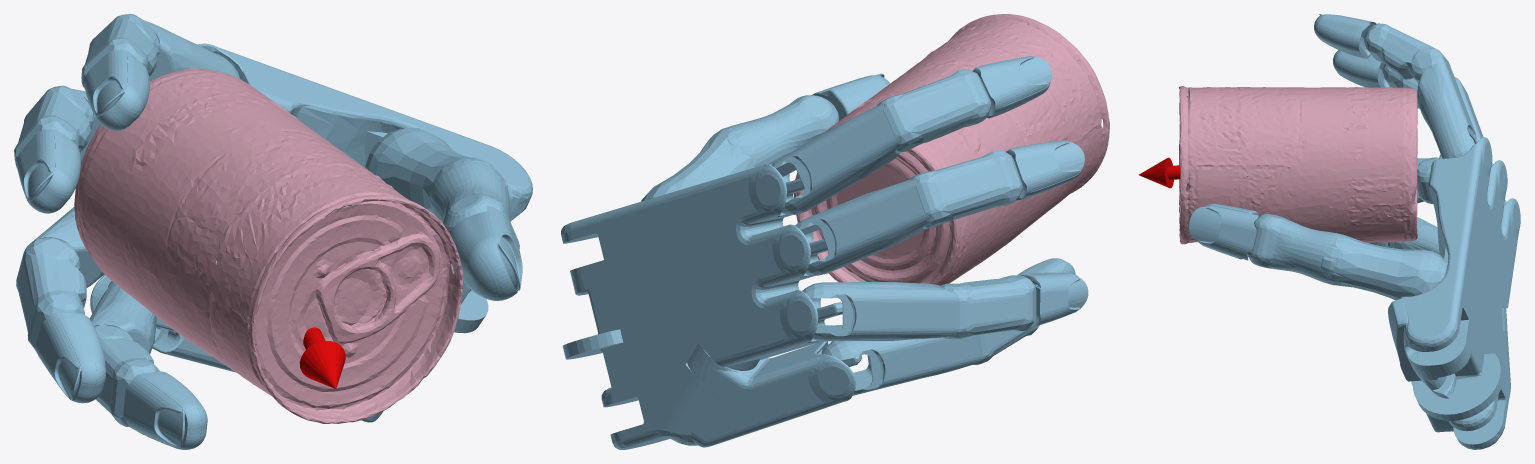
The picture shows the model from 3 angles, left to right: view 1: azimuth 30°, elevation 25°; view 2: azimuth 150°, elevation 25°; view 3: azimuth 270°, elevation 25°; orthographic projection. The views are drawn at different scales.
Parts seen in each view (by area): view 1: tomato_soup_can.stl, world; view 2: world, tomato_soup_can.stl; view 3: world, tomato_soup_can.stl.
Boxes of the visible parts, x1,y1,x2,y2 form: tomato_soup_can.stl: (74, 68, 462, 423); world: (14, 14, 532, 449); world: (561, 56, 1088, 449); tomato_soup_can.stl: (794, 14, 1109, 285); world: (1139, 14, 1520, 449); tomato_soup_can.stl: (1179, 86, 1417, 244).
Bounding box in the file's own units: 0.1804 × 0.1495 × 0.163.
